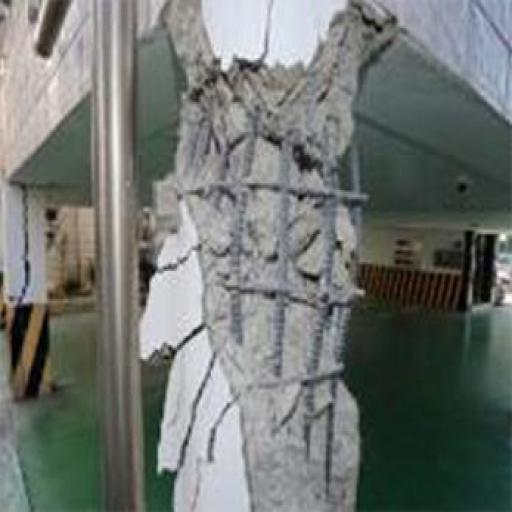spalling: (176, 11, 360, 512)
